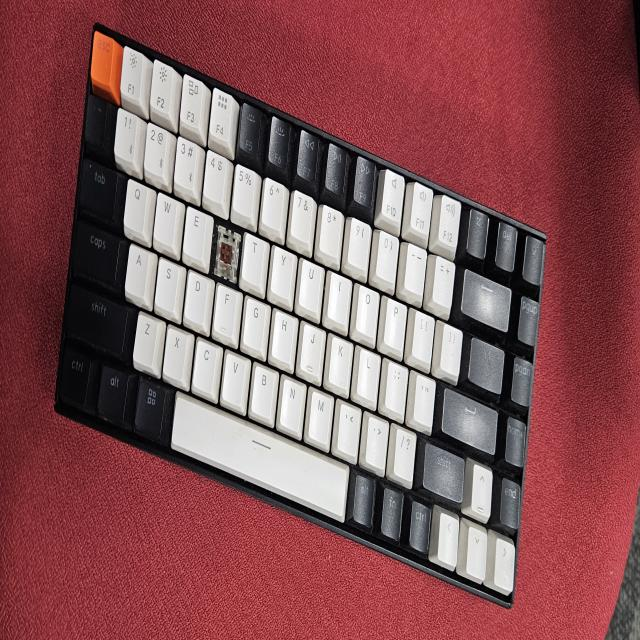C: (216, 227, 234, 279), (217, 228, 234, 273)
